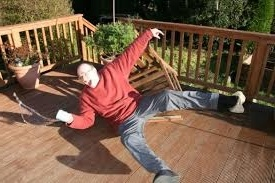fall: (56, 27, 241, 183)
